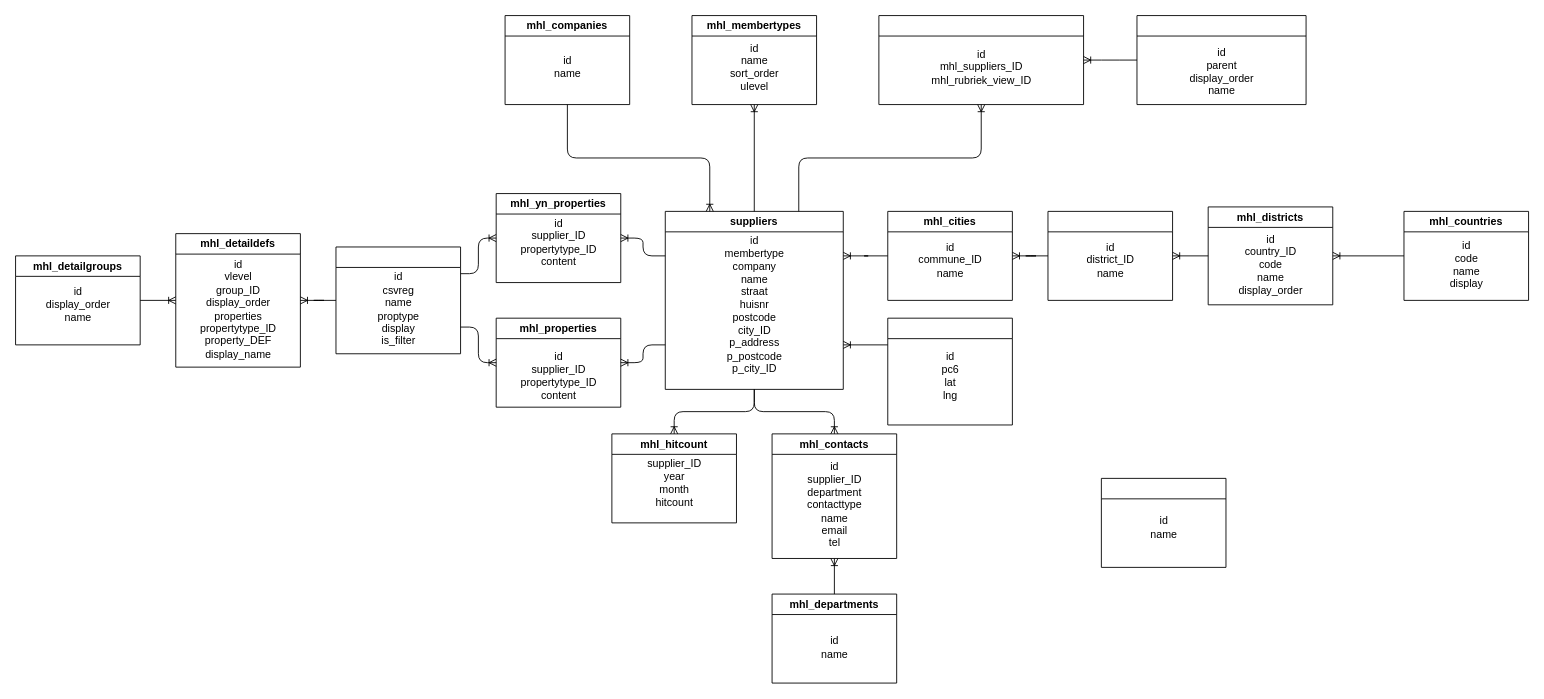
Some shapes in this 1544 by 699 pixel diagram are drawn without their labels. Here are the shapes that lost their labels. From the top down, the box of each, then its label:
(878, 15, 1084, 105): mhl_suppliers_mhl_rubriek_view
(1136, 15, 1306, 105): mhl_rubrieken
(1047, 210, 1173, 300): mhl_communes
(335, 246, 461, 354): mhl_propertytypes
(887, 317, 1012, 425): pc_lat_long
(1100, 477, 1226, 567): mhl_brands
